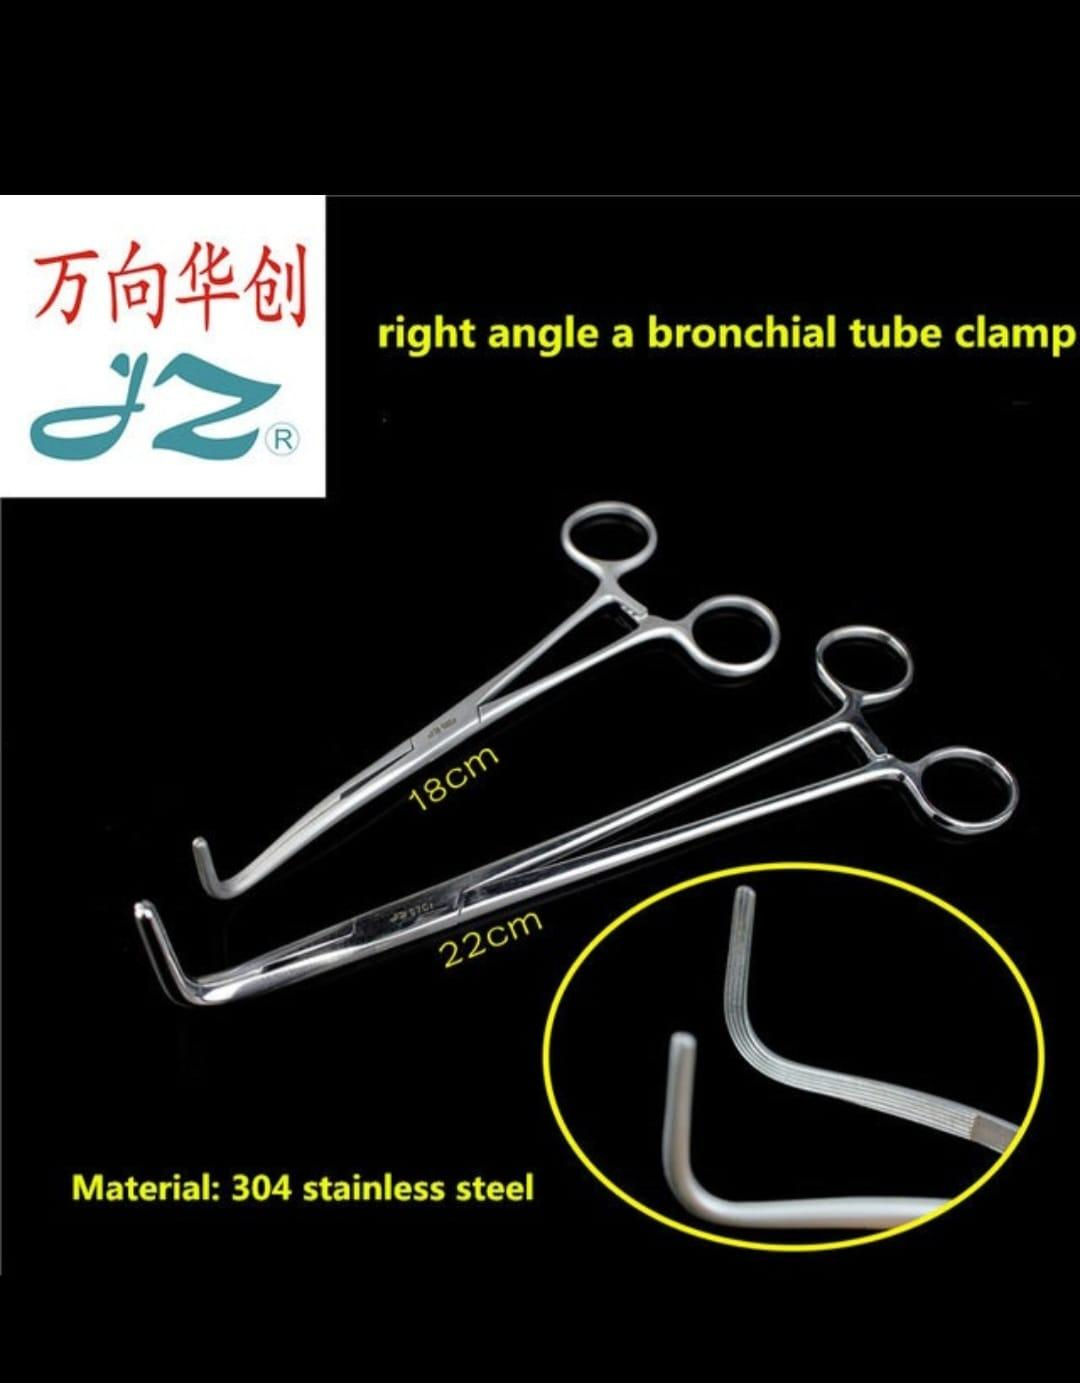Rectangle Cholecystectomy Forceps: (132, 624, 1034, 1010), (178, 494, 784, 898)
